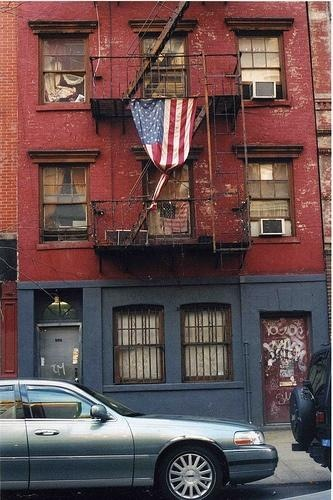car: (2, 379, 280, 499), (290, 349, 333, 474)
